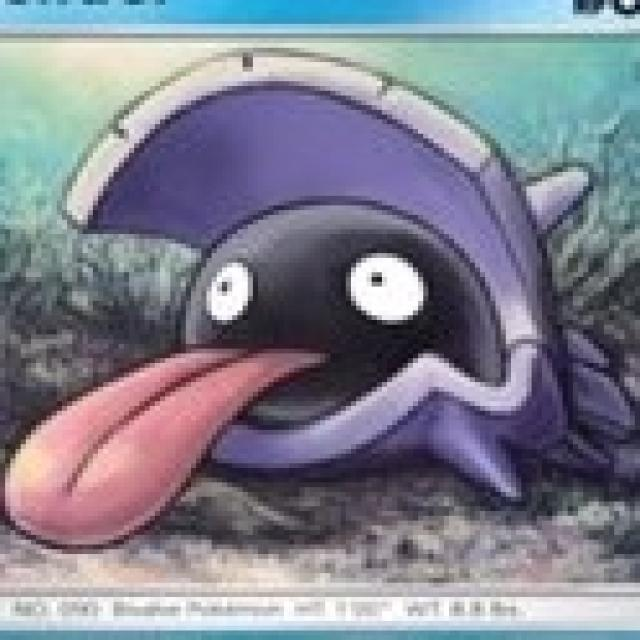Shellder: (54, 130, 551, 472)
